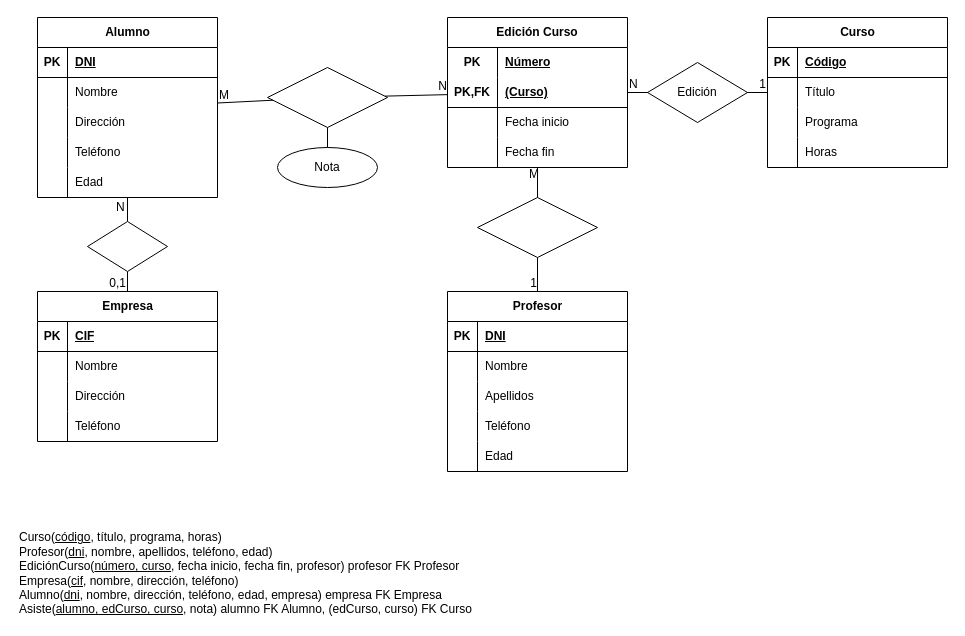
This 965x636 diagram has some shape labels left out. Here are the shapes that lost their labels. From the top down, the centre of each, then its label:
At point (327, 97): "Asiste".
At point (127, 246): "Trabaja".
At point (537, 227): "Imparte".
